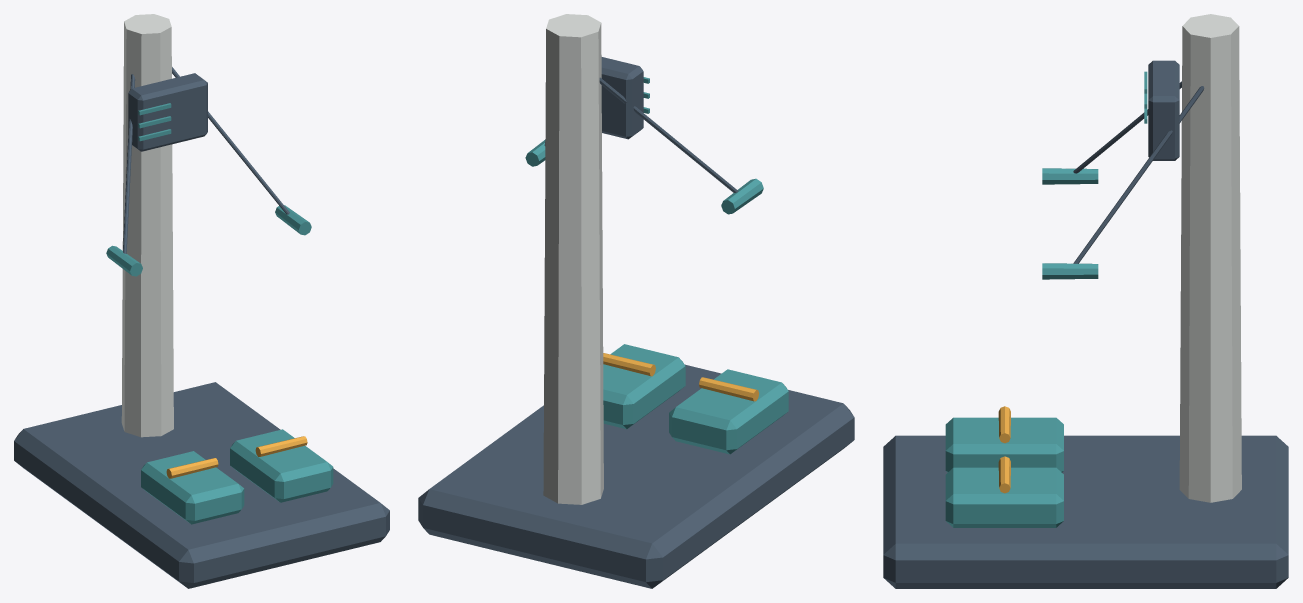
3 renders of one model, left to right at view 1: azimuth 30°, elevation 25°; view 2: azimuth 150°, elevation 25°; view 3: azimuth 270°, elevation 25°, orthographic. The views are drawn at different scales.
Parts seen in each view (by area): view 1: SI-004 Cable resistance exercise station batched; view 2: SI-004 Cable resistance exercise station batched; view 3: SI-004 Cable resistance exercise station batched.
Part boxes in pixels (box(x1,y1,x2,y2)): SI-004 Cable resistance exercise station batched: box(14, 14, 389, 588); SI-004 Cable resistance exercise station batched: box(418, 14, 854, 588); SI-004 Cable resistance exercise station batched: box(883, 14, 1288, 588).
Size of the model in its own units: 0.9 by 1.8 by 1.3.
